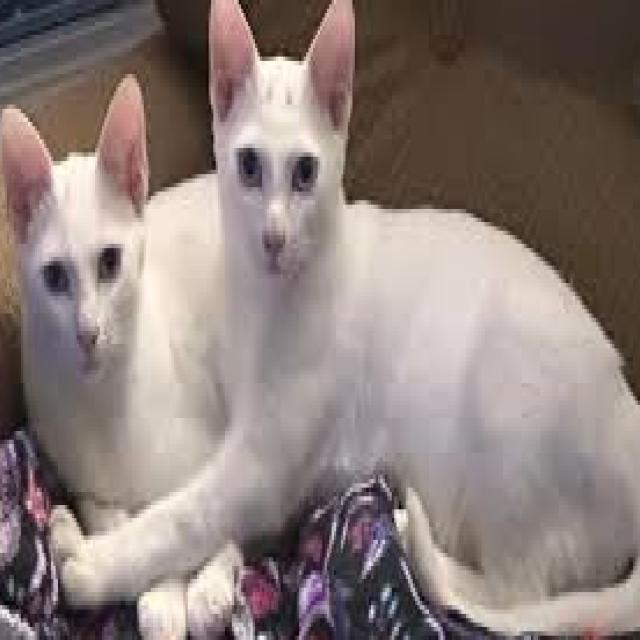Khao Manee: (201, 0, 640, 640), (0, 65, 206, 609)
